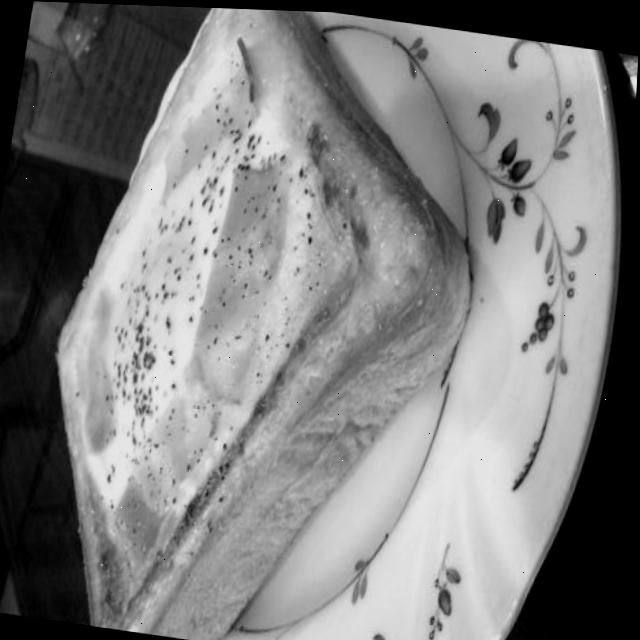面包点心: (5, 1, 514, 640)
